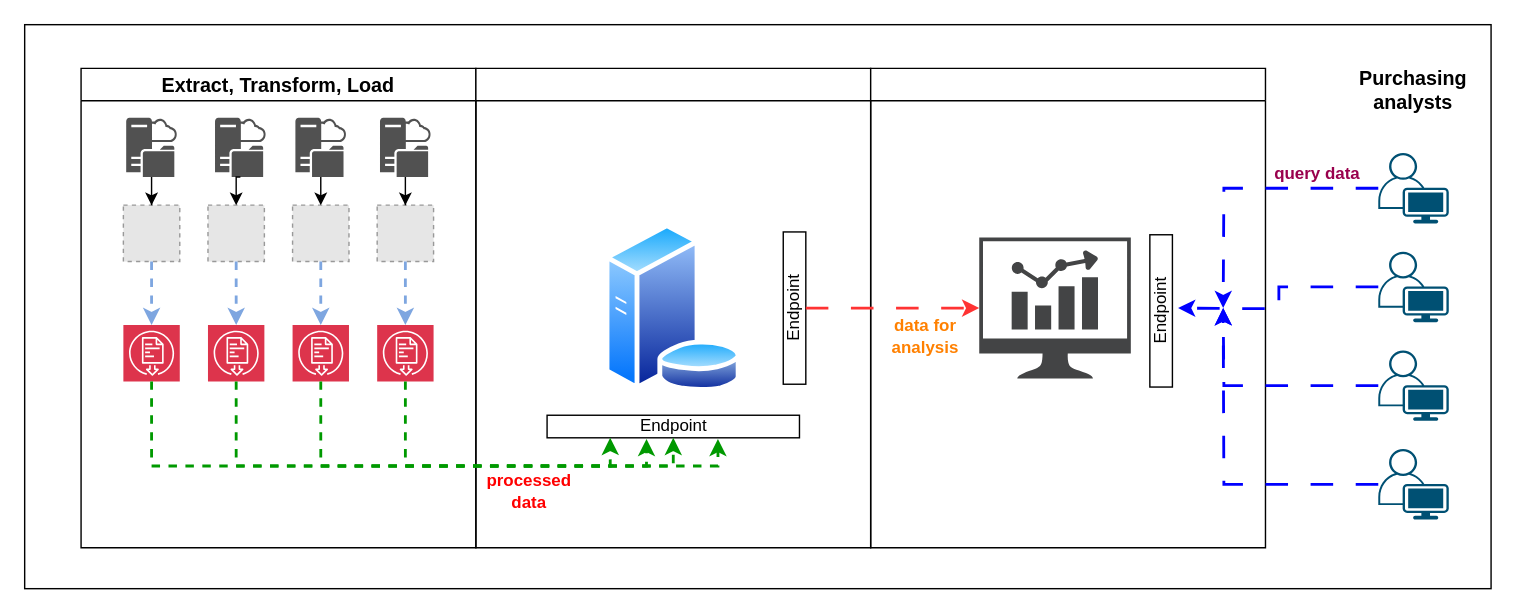
This 1516x613 diagram has some shape labels left out. Grey dashed boxes stand in for pictures. Each missing label, with the box of its shape:
Database MRP: (474, 67, 871, 548)
Visibility Dashboard: (869, 67, 1265, 548)
